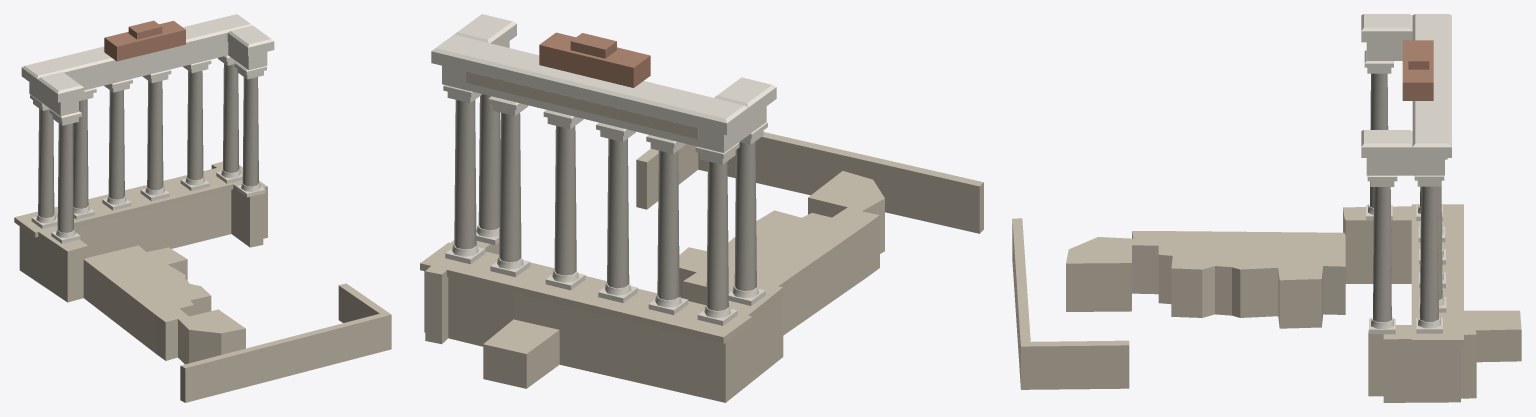
The model's file is rome-temple-of-saturn.glb.
The picture shows the model from 3 angles, left to right: view 1: azimuth 30°, elevation 25°; view 2: azimuth 150°, elevation 25°; view 3: azimuth 270°, elevation 25°; orthographic projection. The views are drawn at different scales.
Parts seen in each view (by area): view 1: Temple of Saturn; view 2: Temple of Saturn; view 3: Temple of Saturn.
Boxes of the visible parts, bbox=[...] form: Temple of Saturn: bbox=[14, 14, 391, 402]; Temple of Saturn: bbox=[420, 14, 983, 402]; Temple of Saturn: bbox=[1012, 14, 1521, 402].
Bounding box in the file's own units: 23.9 × 22.25 × 36.2.
